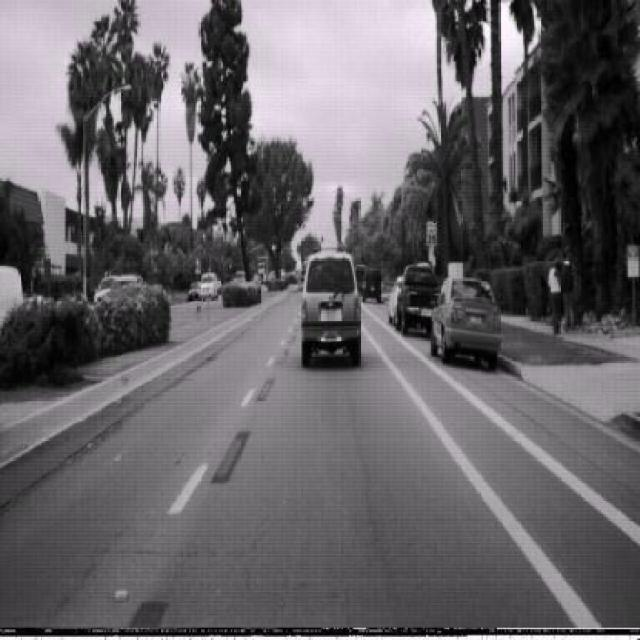speedLimit35: (426, 218, 437, 248)
